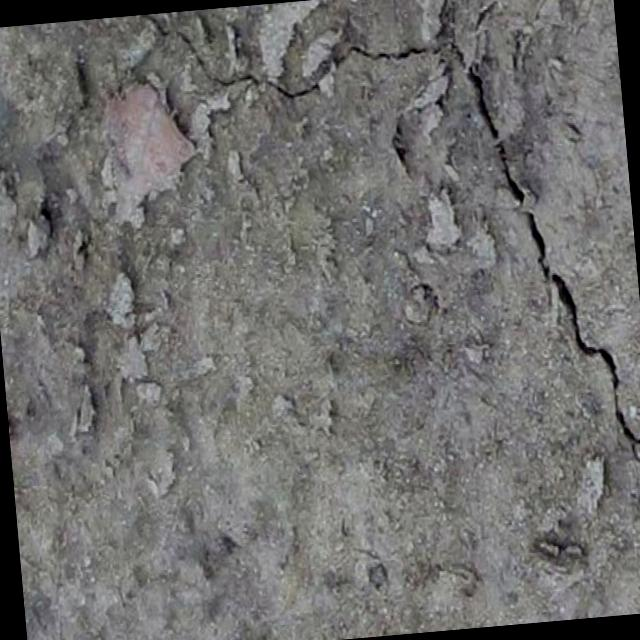crack: (475, 92, 640, 475), (140, 0, 516, 130)
